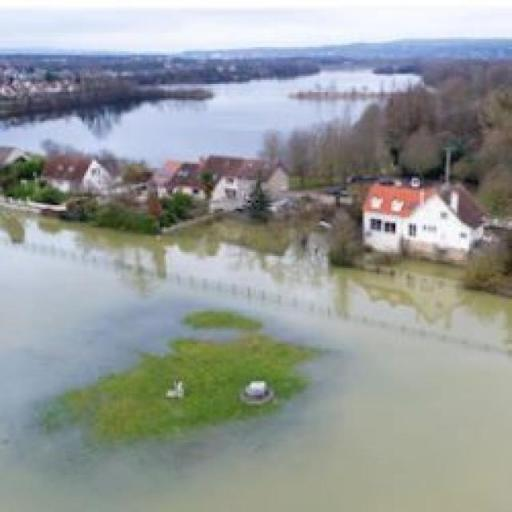flood: (0, 205, 512, 512), (28, 308, 342, 456), (0, 69, 422, 167), (0, 0, 512, 53)
house: (366, 178, 489, 264), (206, 155, 288, 202), (36, 156, 110, 200), (152, 158, 201, 197)
